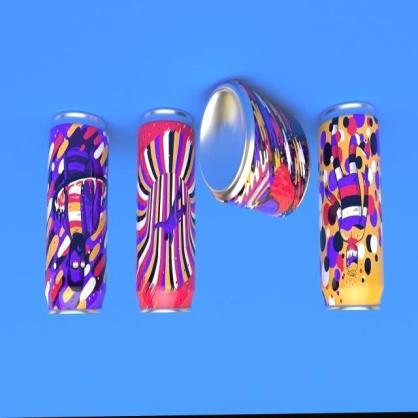can: (41, 113, 109, 316), (316, 104, 382, 311), (134, 110, 194, 318)
